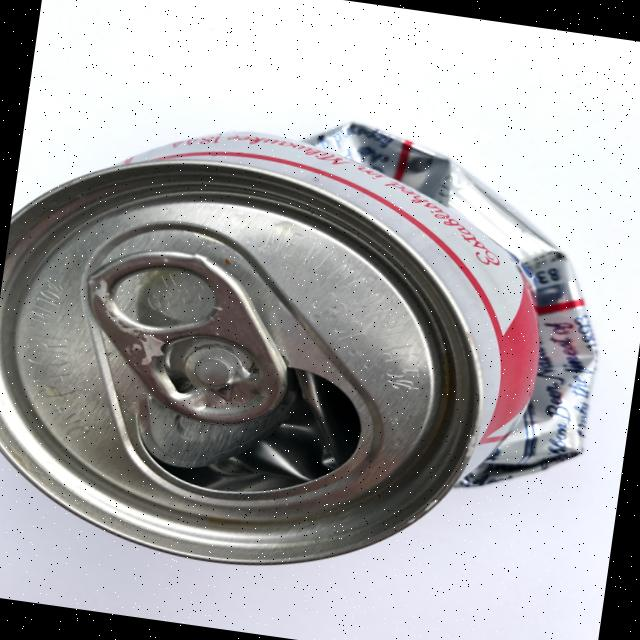metal: (0, 76, 626, 615)
